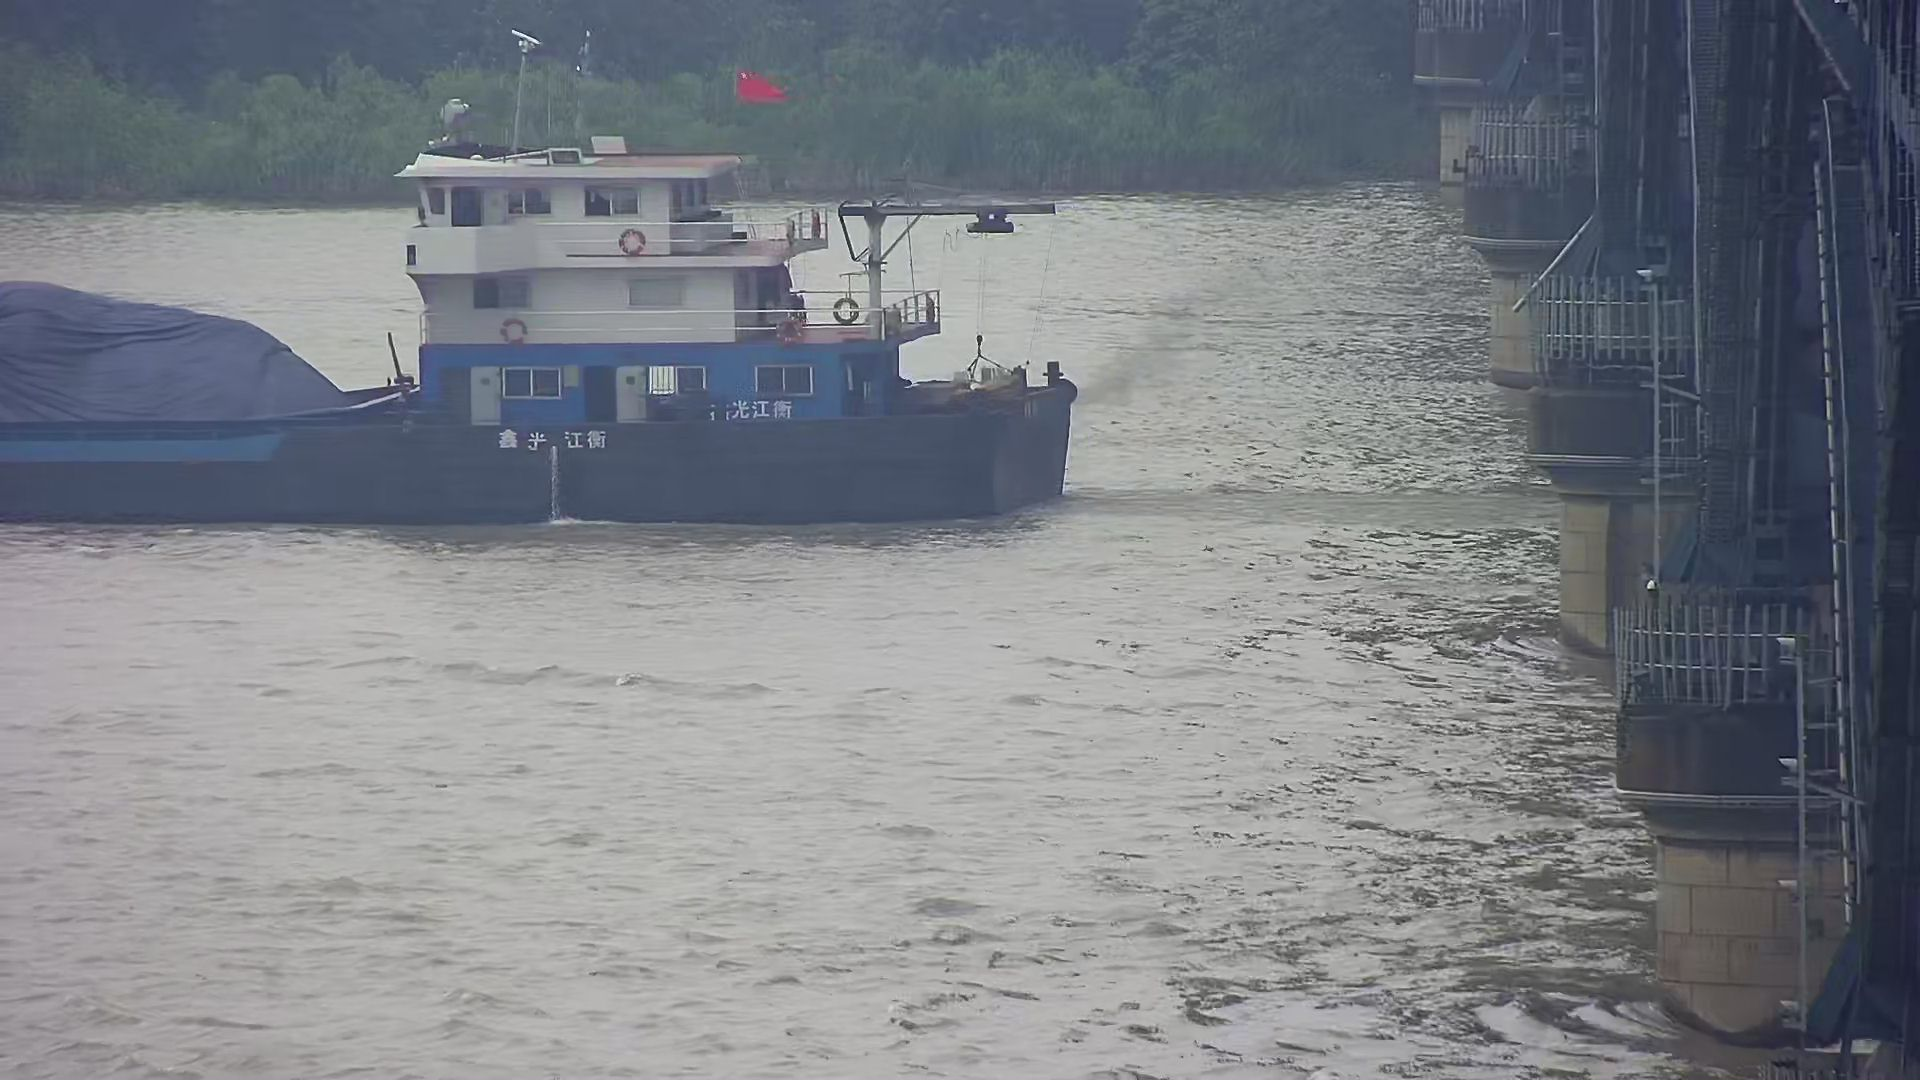bridge: (1393, 1, 1913, 1072)
ship: (1, 8, 1098, 538)
